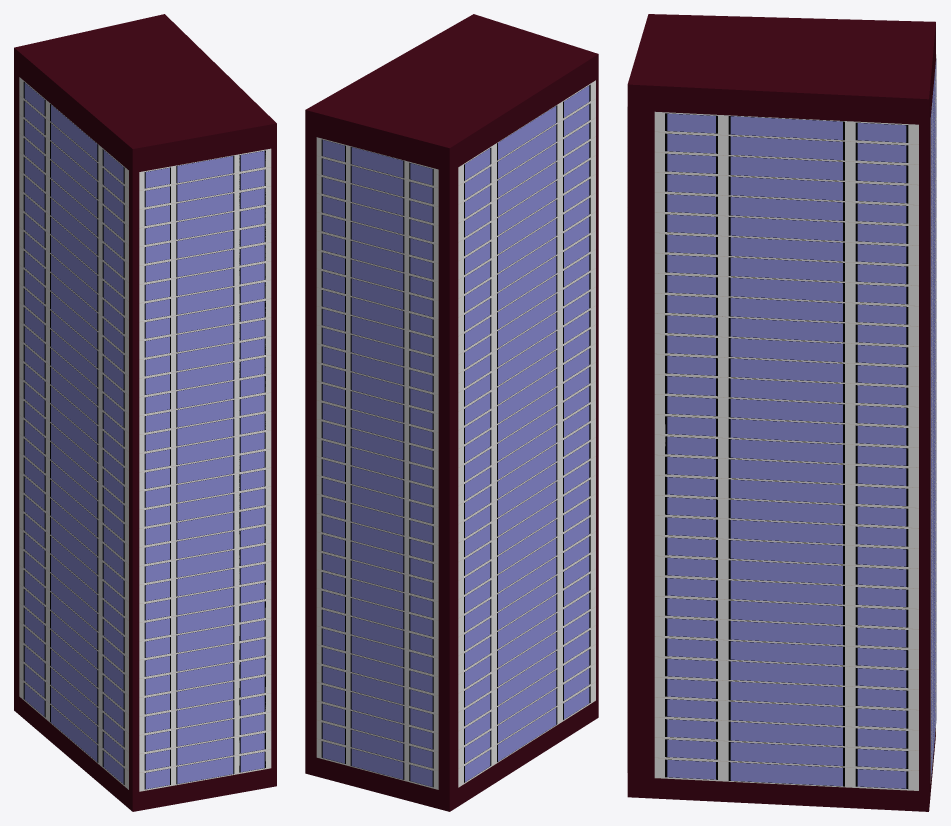
Rendered from ThreeTropicanaBoulevard.fbx.
The picture shows the model from 3 angles, left to right: view 1: azimuth 30°, elevation 25°; view 2: azimuth 150°, elevation 25°; view 3: azimuth 270°, elevation 25°; orthographic projection. The views are drawn at different scales.
Parts seen in each view (by area): view 1: Window.003, Window, ThreeTropicanaBoulevard; view 2: Window, Window.002, ThreeTropicanaBoulevard; view 3: Window.001, ThreeTropicanaBoulevard, Window.002, Window.003.
Boxes of the visible parts, <box> form: Window.003: <box>139,148,271,791</box>; Window: <box>19,77,128,789</box>; ThreeTropicanaBoulevard: <box>14,14,276,811</box>; Window: <box>458,80,595,787</box>; Window.002: <box>316,137,438,789</box>; ThreeTropicanaBoulevard: <box>305,14,598,811</box>; Window.001: <box>654,111,918,790</box>; ThreeTropicanaBoulevard: <box>627,14,935,811</box>; Window.002: <box>930,54,936,783</box>; Window.003: <box>627,107,627,772</box>.
Bounding box in the file's own units: 1853 × 7200 × 2831.
